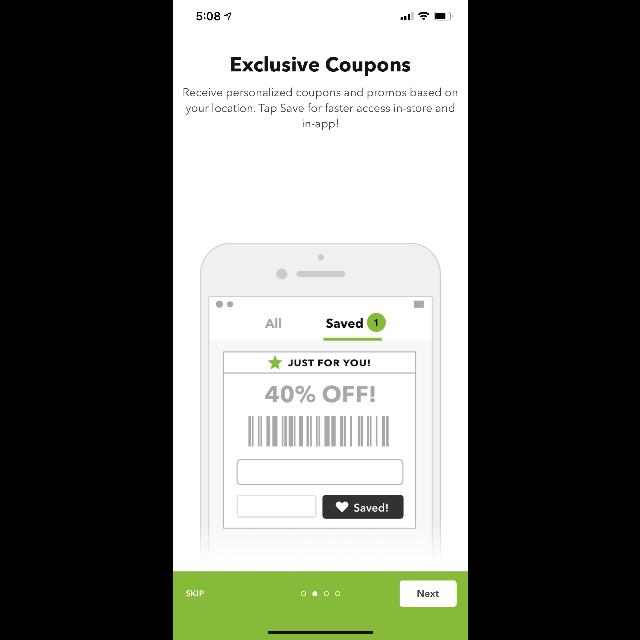image: (200, 243, 440, 559)
pageindicator: (300, 590, 340, 596)
text: (183, 88, 457, 130), (230, 56, 410, 76), (185, 590, 203, 598)
textbutton: (399, 581, 456, 607)
uppertaskbar: (196, 12, 452, 21)
